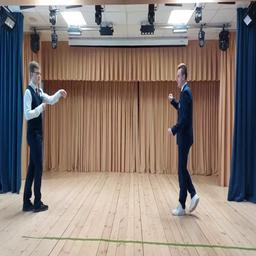person: (23, 61, 68, 211), (167, 63, 200, 216)
